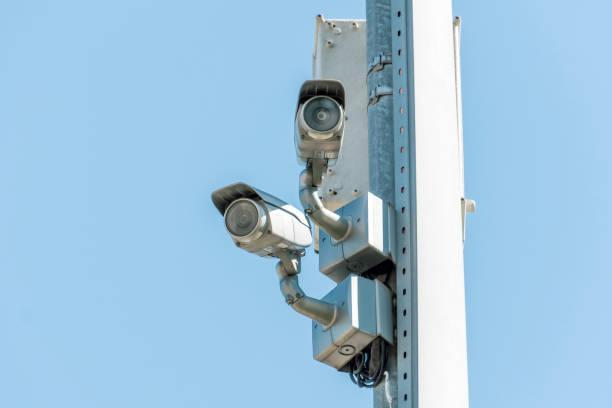camera: (184, 167, 317, 290), (271, 59, 372, 194)
